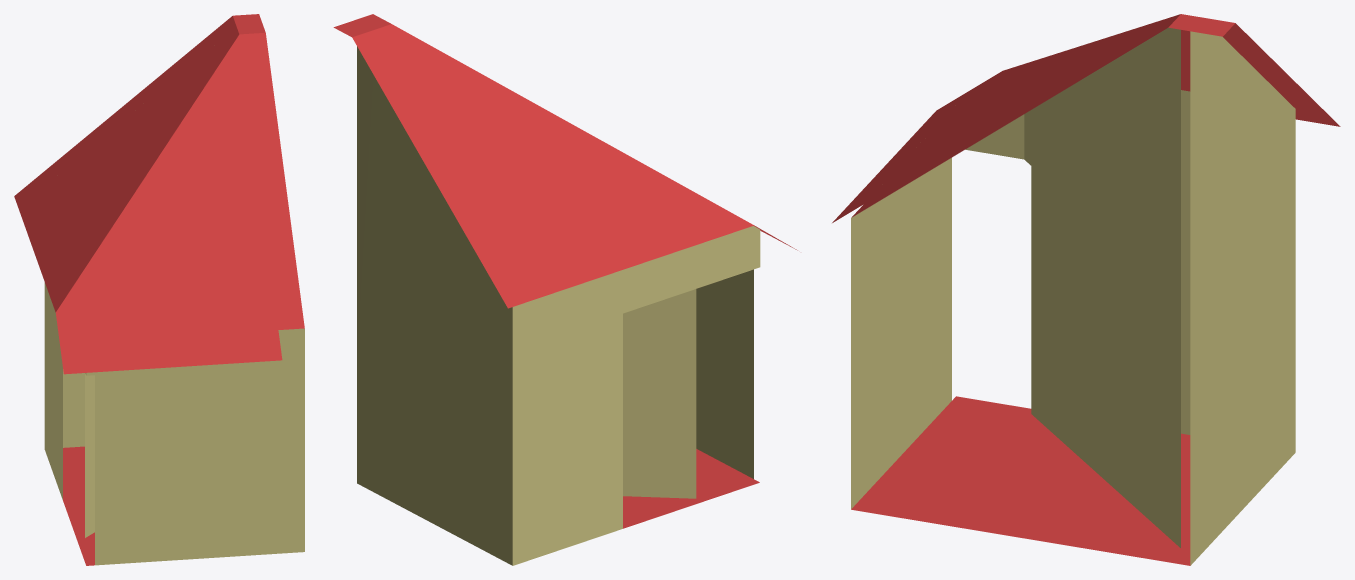
The picture shows the model from 3 angles, left to right: view 1: azimuth 30°, elevation 25°; view 2: azimuth 150°, elevation 25°; view 3: azimuth 270°, elevation 25°; orthographic projection. The views are drawn at different scales.
Size of the model in its own units: 9.89 by 10.97 by 12.7.
